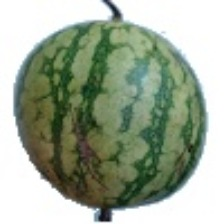watermelon: (18, 19, 187, 164)
